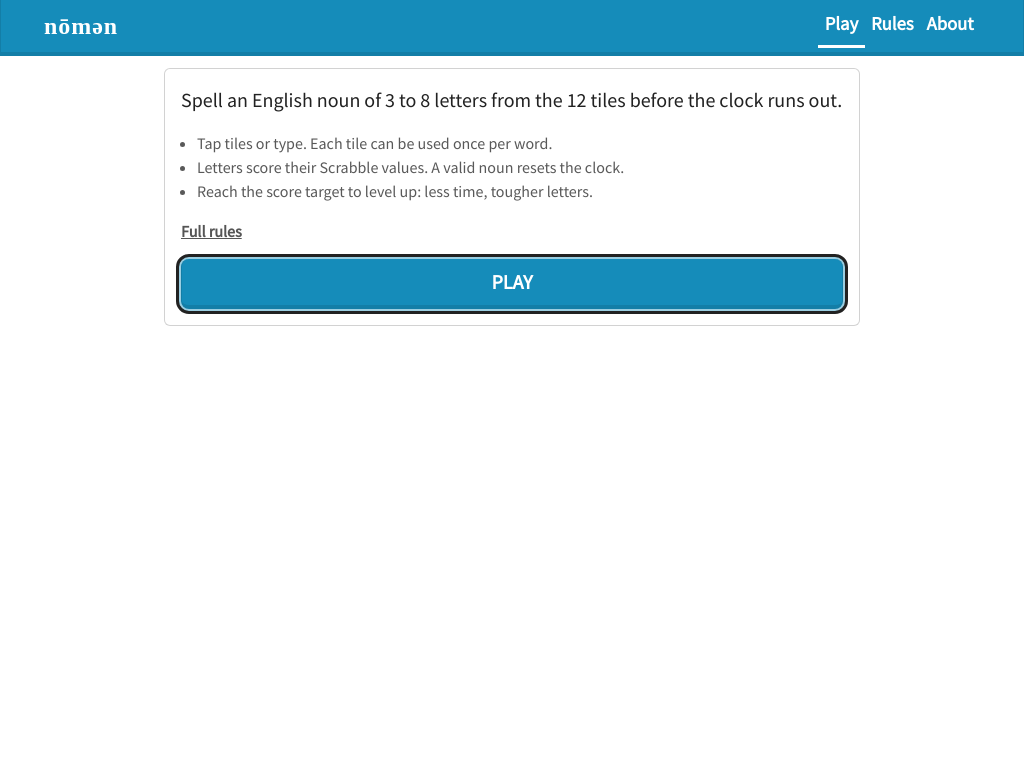
Test: User Story 2: race the clock › starts a fresh level 1 game on Play again
The image size is (1024, 768).
Click the button "Play" at (512, 284), box [181, 259, 843, 309]
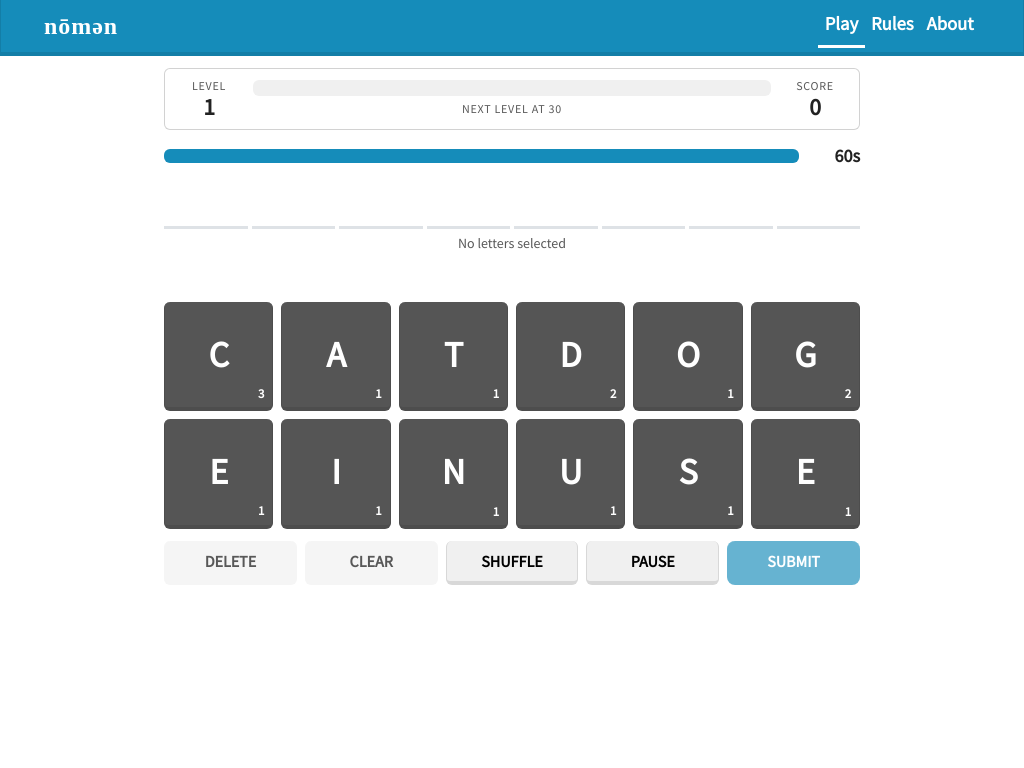
Type keys "cat{Enter}"
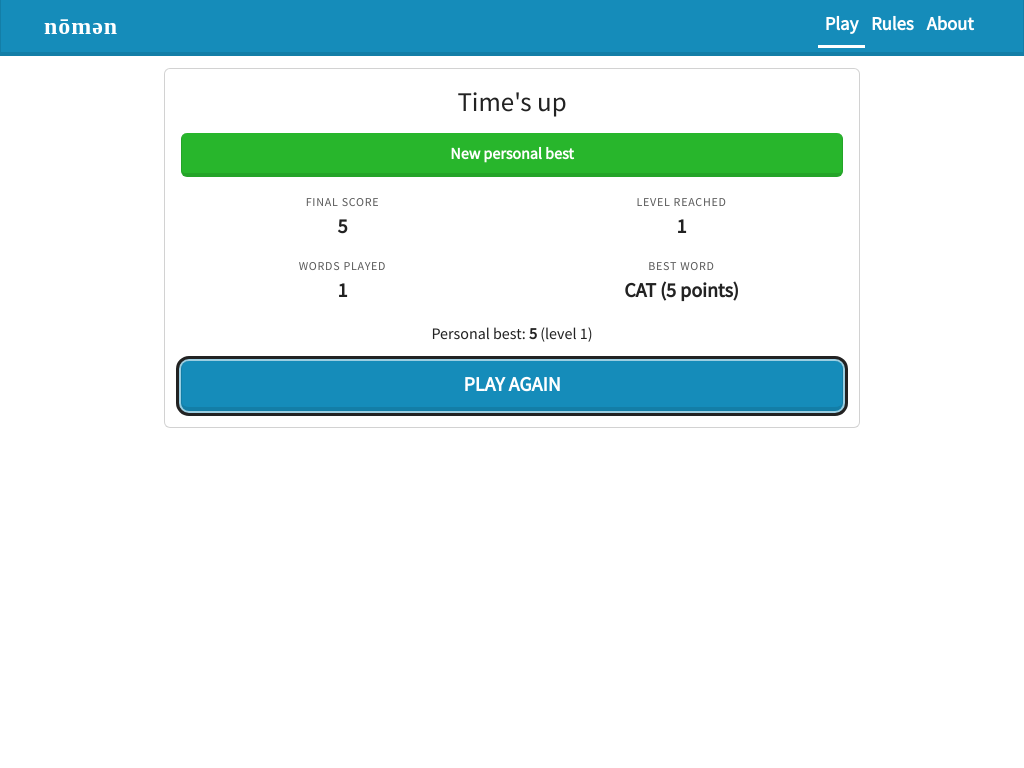
Click the button "Play again" at (512, 386), box [181, 361, 843, 411]
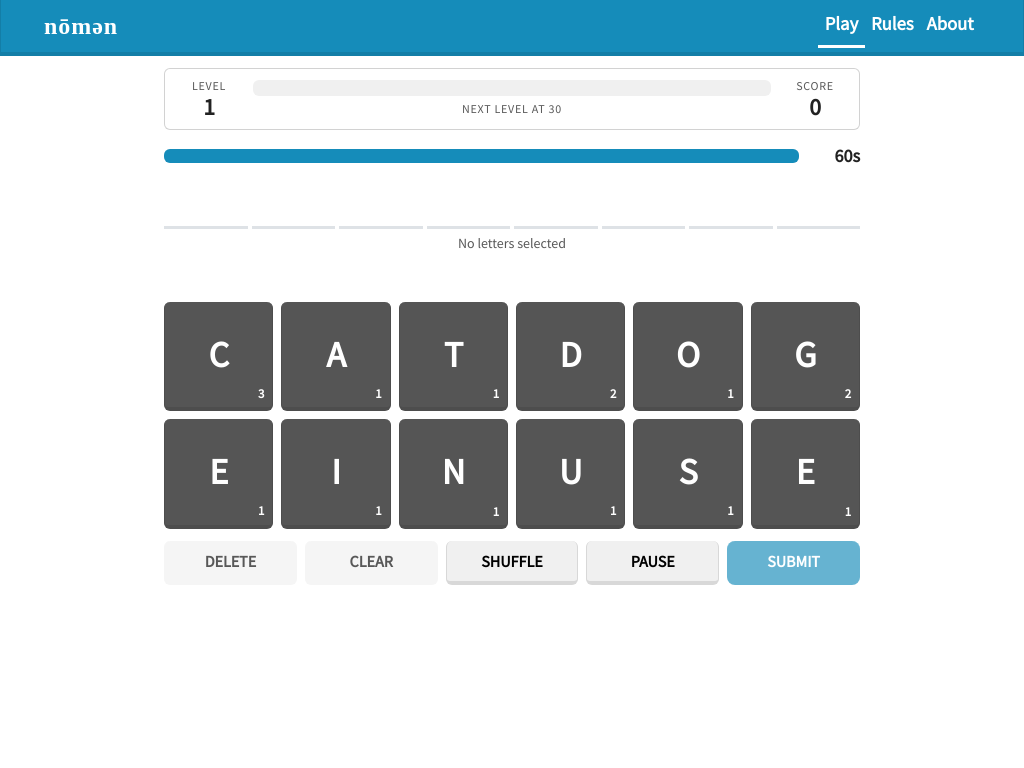
Check: the text with test id "score" reads "0", box [809, 92, 821, 121]
Check: the text with test id "level" reads "1", box [203, 92, 215, 121]
Check: the element named "Time remaining" reads "60s", box [164, 142, 860, 169]
